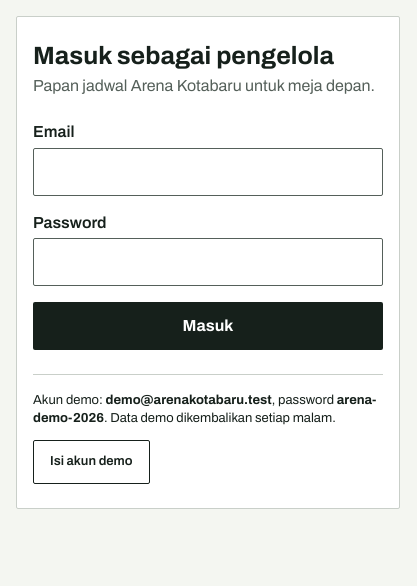
Scenario: LoginForm › tells the owner to wait after too many attempts
The image size is (417, 586).
Step 1. Click the button "Isi akun demo" → (91, 462), box [33,440,150,484]
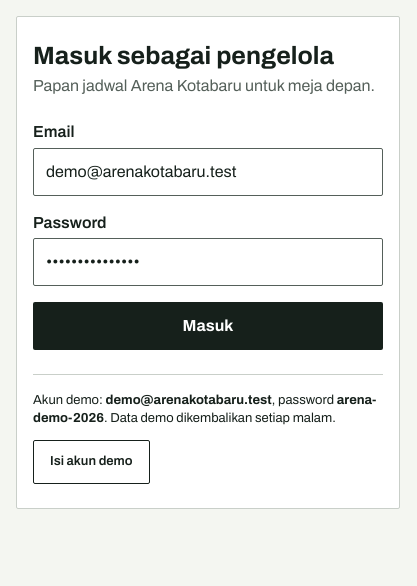
Step 2. Click the button "Masuk" → (208, 326), box [33,302,383,350]
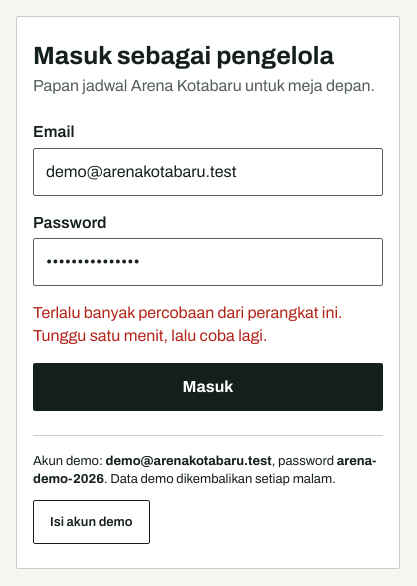
Check: the message shows "Tunggu satu menit", box [33,304,342,344]
